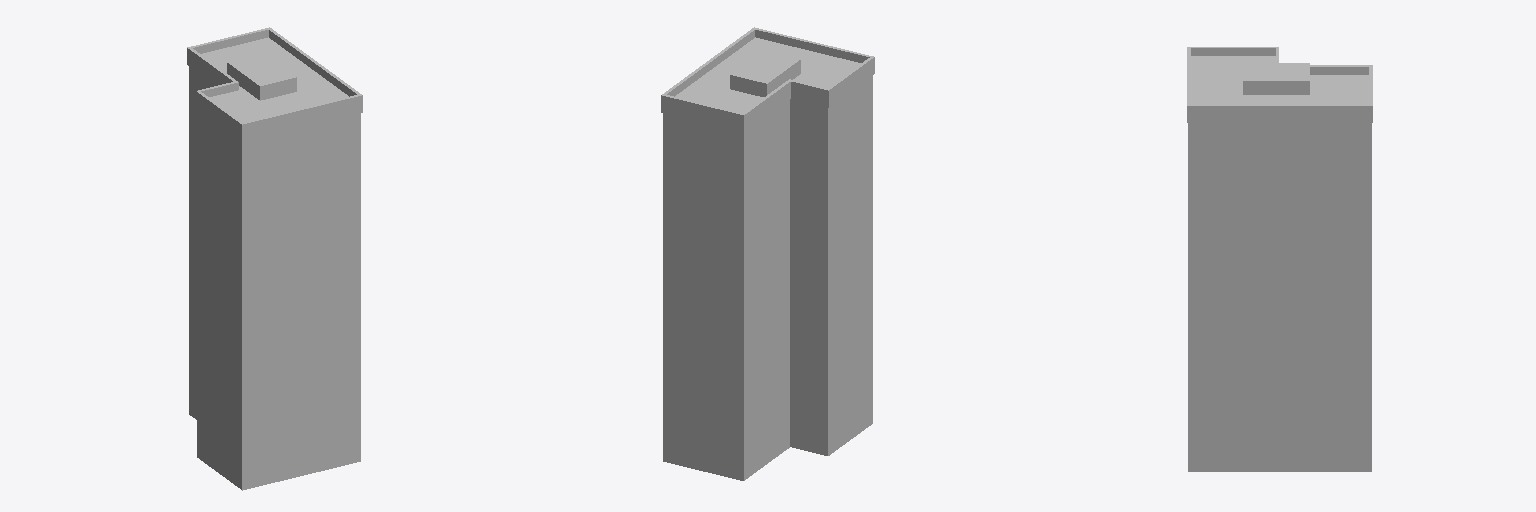
Rendered from building_37.obj.
The picture shows the model from 3 angles: view 1: azimuth 30°, elevation 25°; view 2: azimuth 150°, elevation 25°; view 3: azimuth 270°, elevation 25°; orthographic projection.
Visible parts, largest first — view 1: BakedBuilding_334; view 2: BakedBuilding_334; view 3: BakedBuilding_334.
Part boxes in pixels (x1,y1,x2,y2): BakedBuilding_334: (187,27,362,490); BakedBuilding_334: (661,27,874,480); BakedBuilding_334: (1187,47,1372,471).
Size of the model in its own units: 73.34 by 216 by 97.5.